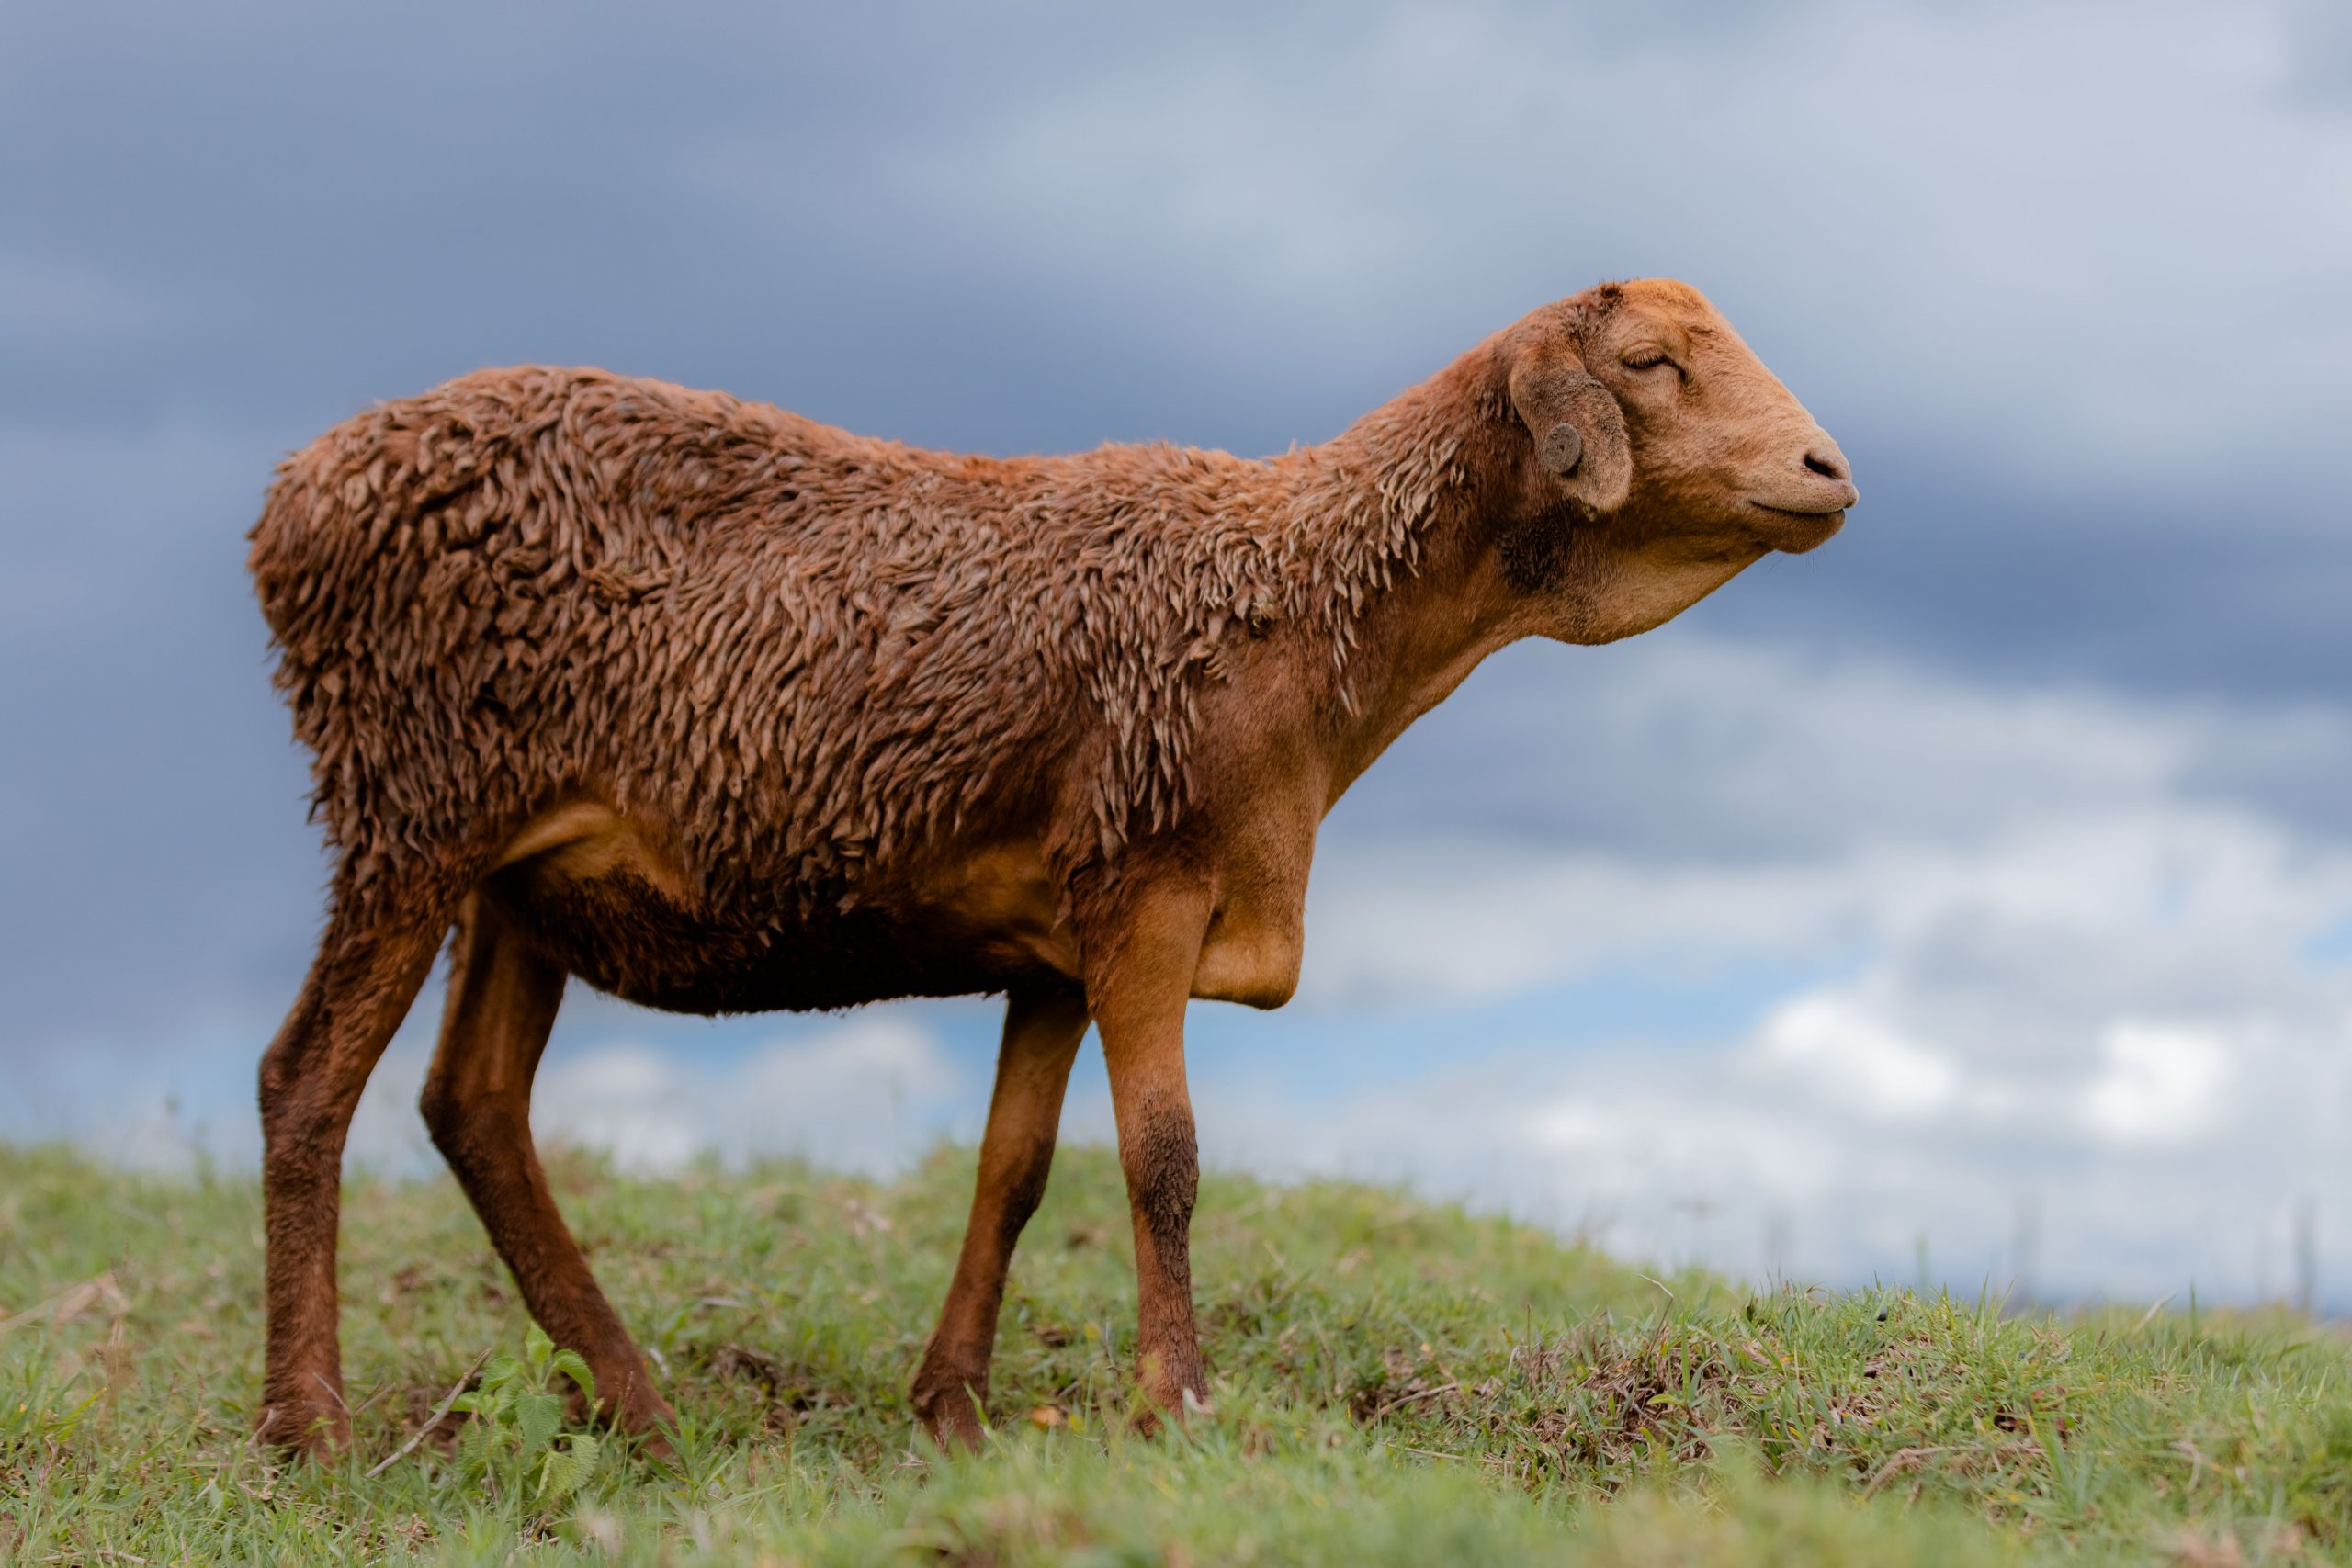sheeo: (122, 271, 1895, 1391)
